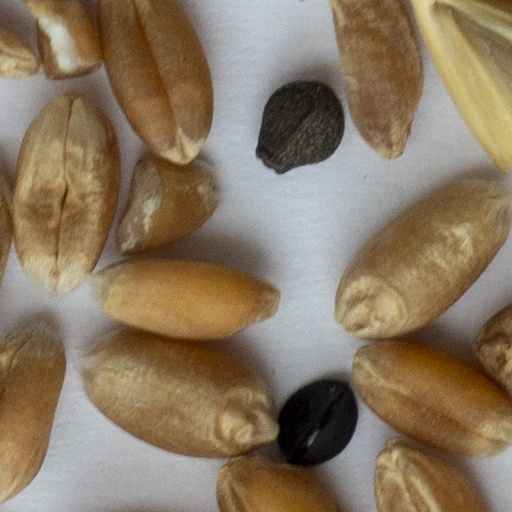Wheat-grain-damaged-poly: (115, 155, 227, 252), (12, 0, 102, 81)
